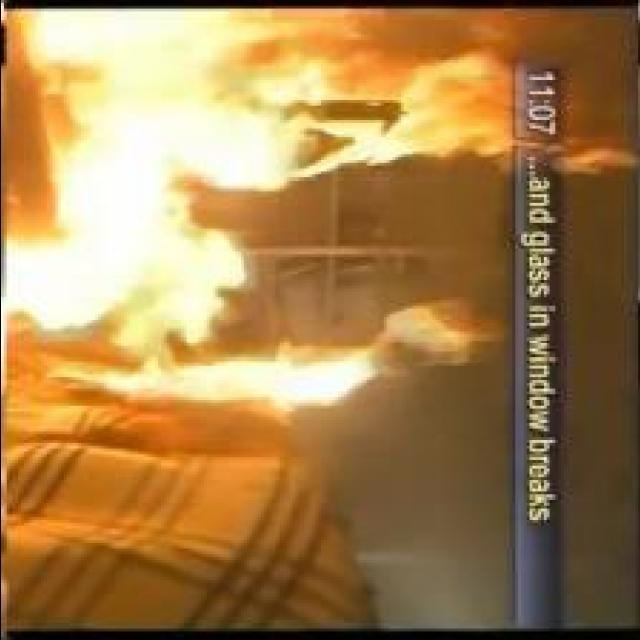Fire: (8, 11, 636, 398), (49, 302, 502, 414)
